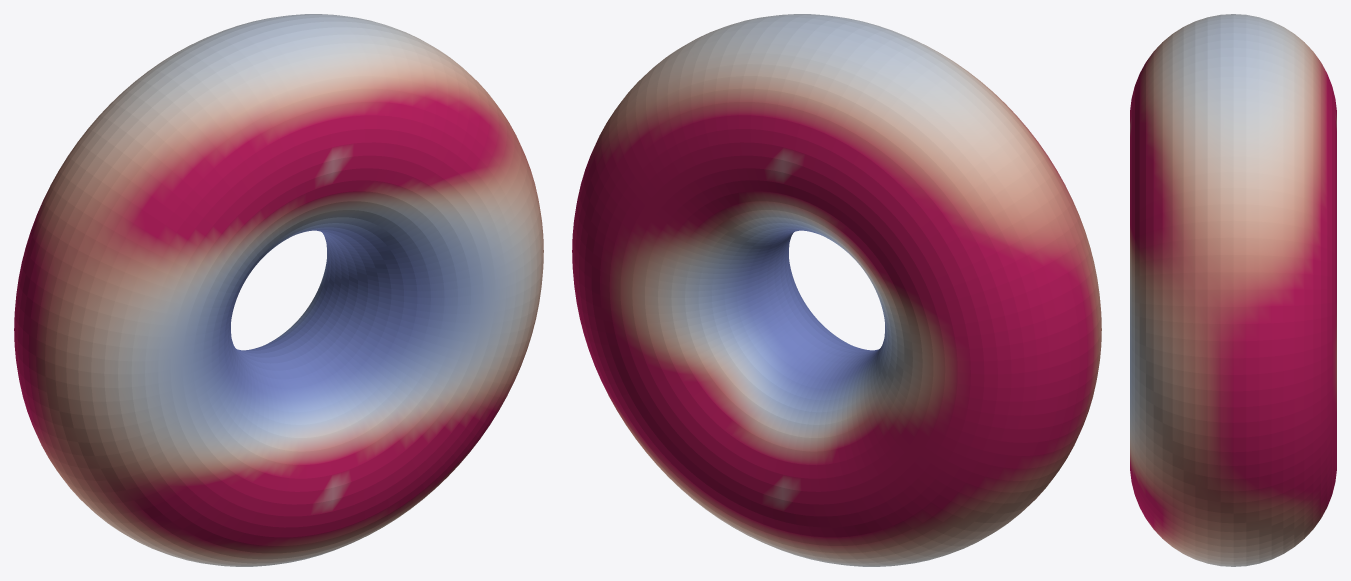
3 views of the same model, side by side, from view 1: azimuth 30°, elevation 25°; view 2: azimuth 150°, elevation 25°; view 3: azimuth 270°, elevation 25° (orthographic). The views are drawn at different scales.
Visible parts, largest first — view 1: world; view 2: world; view 3: world.
Boxes of the visible parts, x1,y1,x2,y2 form: world: [14, 14, 543, 566]; world: [572, 14, 1101, 566]; world: [1130, 14, 1336, 566].
Size of the model in its own units: 22.4 by 22.4 by 8.38.
